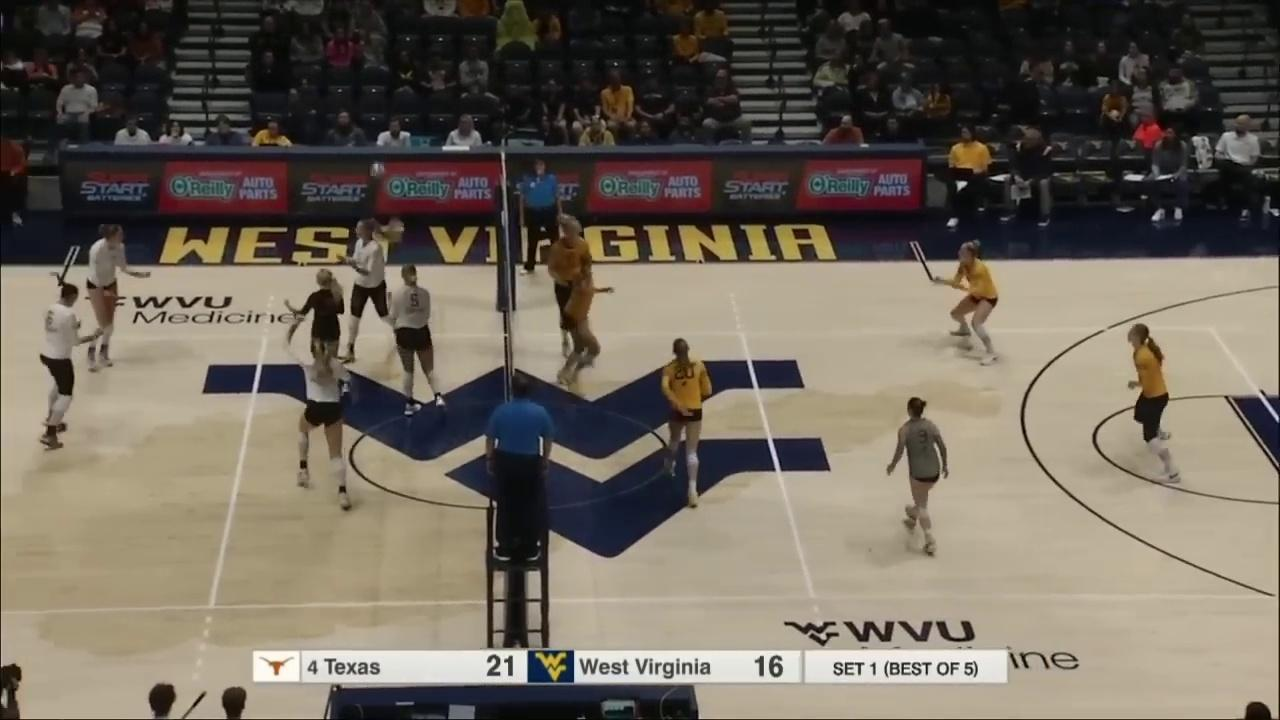player: (880, 401, 952, 562), (292, 334, 355, 512), (35, 285, 99, 452), (339, 215, 406, 371), (658, 337, 714, 512), (85, 224, 151, 371), (1121, 319, 1176, 486), (384, 267, 445, 409), (937, 243, 1008, 364), (550, 212, 597, 371), (297, 268, 349, 397), (559, 252, 604, 395)
refree: (488, 381, 550, 564), (517, 155, 568, 280)
